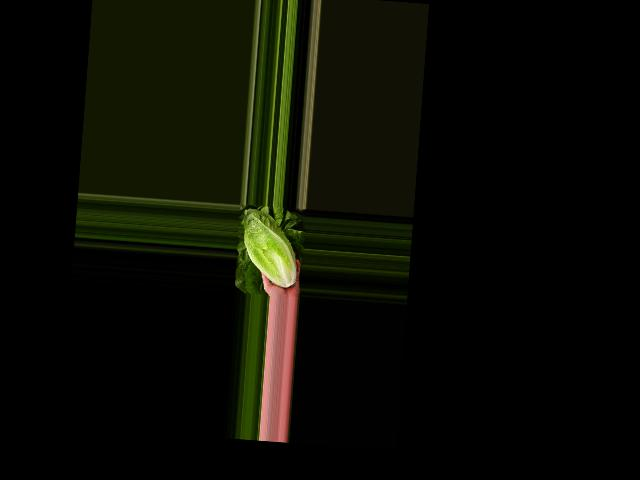lettuce: (238, 207, 303, 289)
